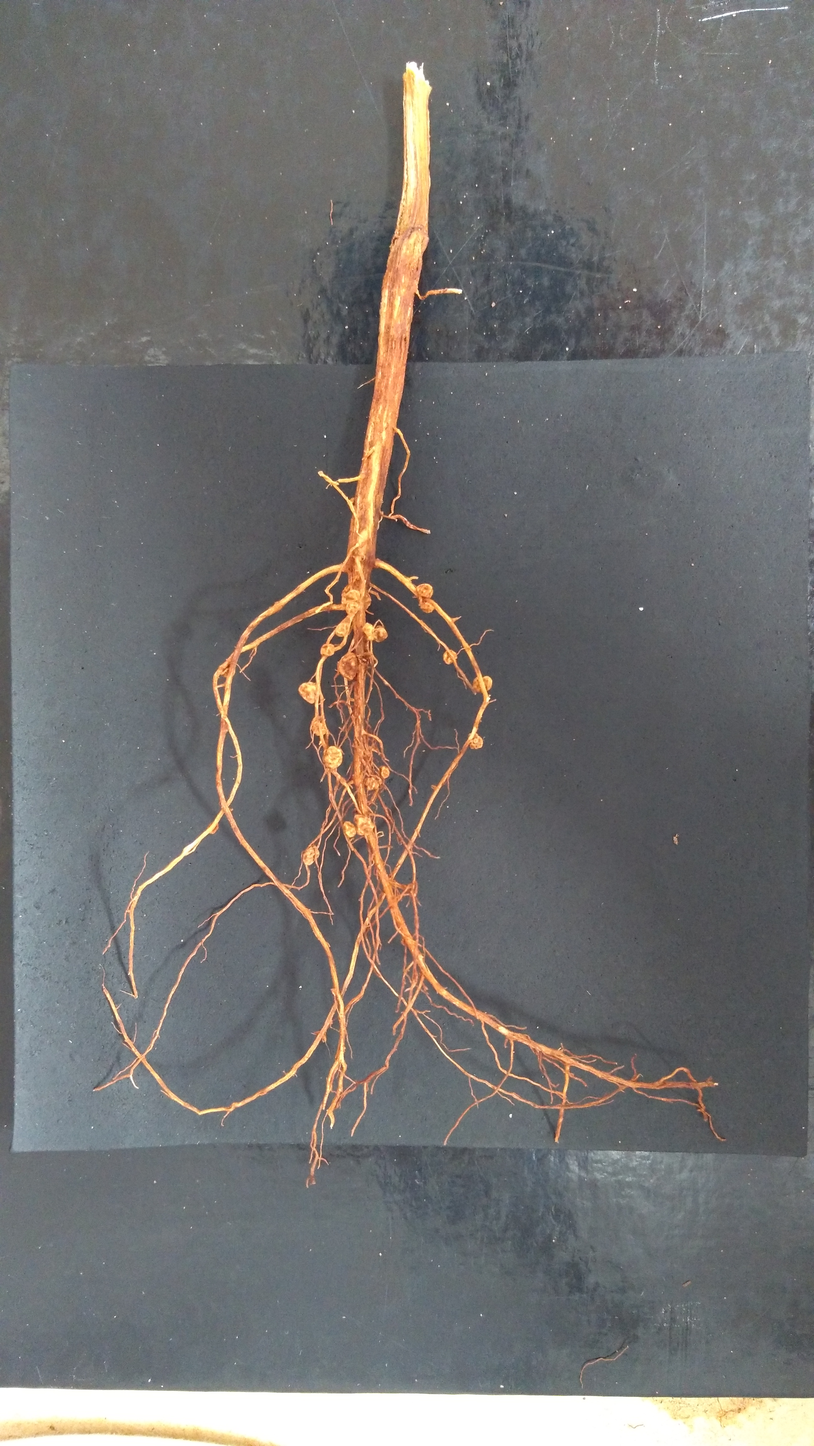nodule: (336, 651, 358, 682), (322, 745, 344, 770), (352, 813, 375, 836), (470, 674, 494, 694), (301, 844, 321, 867), (297, 681, 317, 704), (467, 732, 485, 751), (415, 582, 435, 599), (361, 621, 375, 644), (417, 599, 437, 615), (373, 625, 389, 644), (311, 719, 328, 736), (343, 819, 358, 838), (441, 649, 458, 665), (219, 661, 235, 678), (341, 589, 360, 603), (319, 643, 336, 657), (363, 777, 381, 790), (336, 621, 348, 639), (206, 821, 220, 835), (345, 601, 359, 615), (378, 765, 390, 780)
